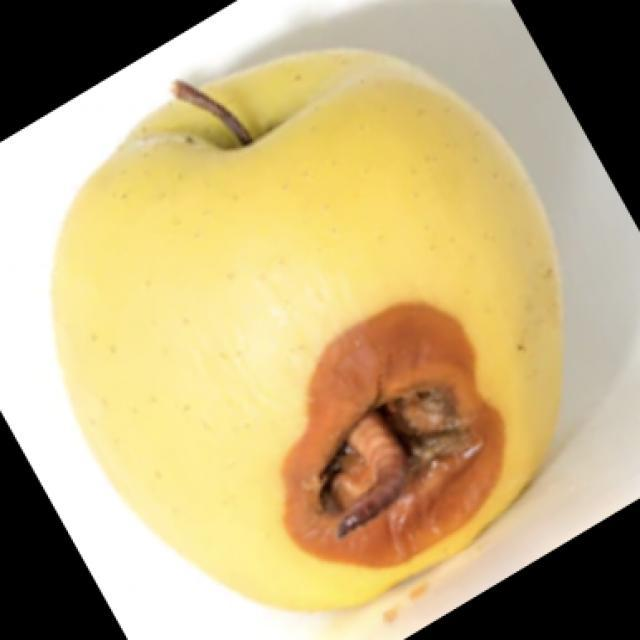Rotten: (67, 45, 603, 600)
